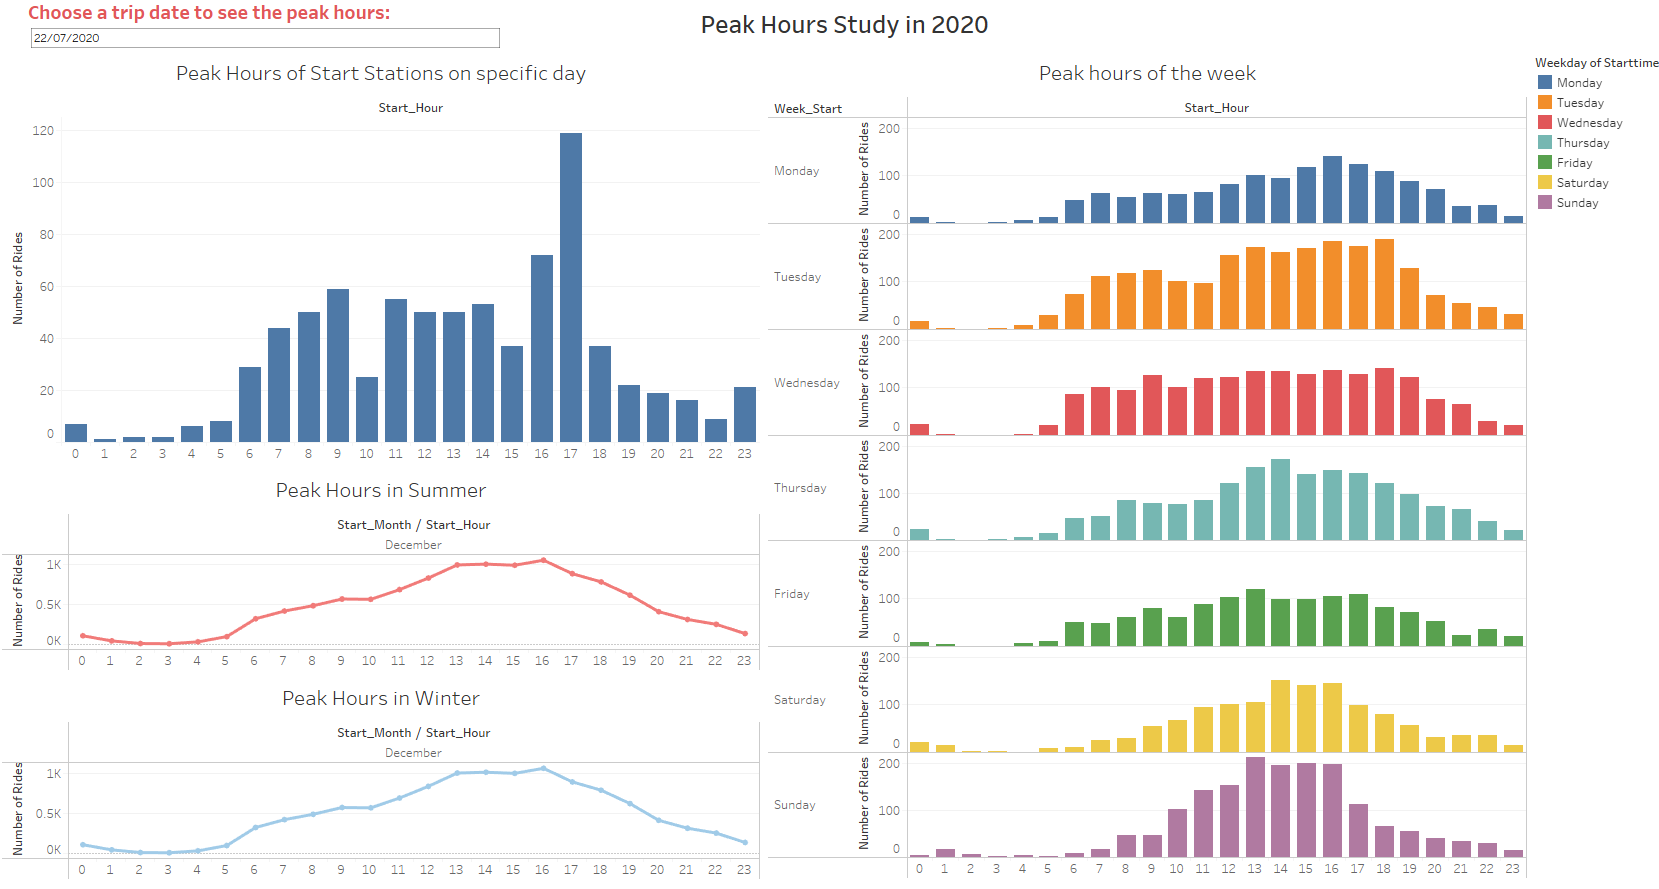

The page's visual inventory and layout, read from the dashboard file:
{"tool":"tableau","page":{"name":"Dashboard - Peak hours Study in 2020","canvas":[1000,1000],"units":"permille","ordinal":1},"visuals":[{"type":"title","box":[4.2,7.7,991.7,51.8]},{"type":"parameter","param":"[Parameters].[Parameter 1]","box":[45.9,16.3,153.3,75.5]},{"type":"worksheet","title":"Peak Hours of Start Stations on specific day","mark":"Bar","rows":["Calculation_1757248280959762432"],"cols":["starttime"],"box":[4.2,59.4,454,466.2]},{"type":"worksheet","title":"Peak hours of the week","mark":"Bar","rows":["starttime","Calculation_1757248280959762432"],"cols":["starttime"],"box":[458.2,59.4,454.4,932.9]},{"type":"legend","title":"Peak hours of the week","param":"[federated.09impmv1rgf8k6130ey5n1y0aig7].[wd:starttime:ok]","box":[912.5,59.4,83.3,169.7]},{"type":"worksheet","title":"Peak Hours in Summer","mark":"Line","rows":["Calculation_1757248280959762432"],"cols":["starttime","starttime"],"box":[4.2,525.6,454,233.2]},{"type":"worksheet","title":"Peak Hours in Winter","mark":"Line","rows":["Calculation_1757248280959762432"],"cols":["starttime","starttime"],"box":[4.2,758.8,454,233.5]}]}

Visuals, with their boxes on the dashboard's canvas, which has no fixed pixel size, in thousandths of its width and height (x1, y1, x2, y2). These are canvas units, not pixel positions in the 1659x889 screenshot, which may show the page scaled, cropped or inside an application window:
title: 4:8:996:60
parameter: 46:16:199:92
"Peak Hours of Start Stations on specific day" worksheet (Bar marks): 4:59:458:526
"Peak hours of the week" worksheet (Bar marks): 458:59:913:992
"Peak hours of the week" legend: 912:59:996:229
"Peak Hours in Summer" worksheet (Line marks): 4:526:458:759
"Peak Hours in Winter" worksheet (Line marks): 4:759:458:992
